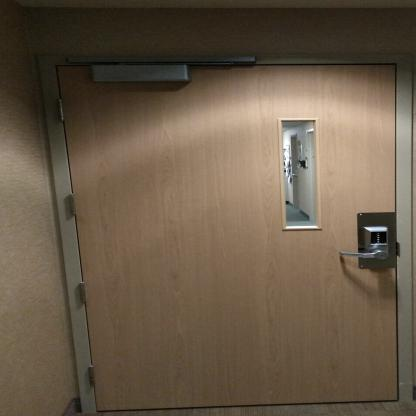door: (50, 62, 414, 414)
hinged: (74, 279, 94, 306), (66, 192, 82, 218), (86, 365, 102, 387), (57, 98, 70, 123)
lever: (334, 247, 390, 264)
